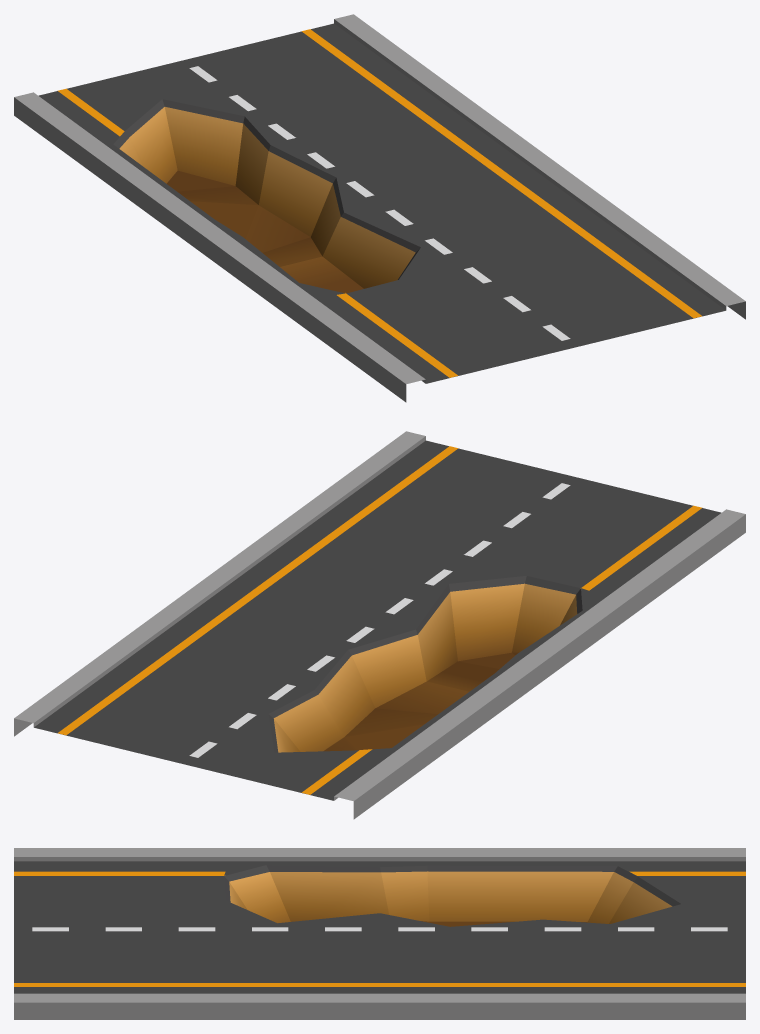
Rendered from Road_A_3.glb.
3 renders of one model, top to bottom at view 1: azimuth 30°, elevation 25°; view 2: azimuth 150°, elevation 25°; view 3: azimuth 270°, elevation 25°, orthographic. The views are drawn at different scales.
Visible parts, largest first — view 1: Road_A_3; view 2: Road_A_3; view 3: Road_A_3.
Boxes of the visible parts, x1,y1,x2,y2 form: Road_A_3: (14,14,745,402); Road_A_3: (14,431,745,819); Road_A_3: (14,848,745,1019).
Size of the model in its own units: 8 by 1.47 by 16.
1 material, 1 textured.
